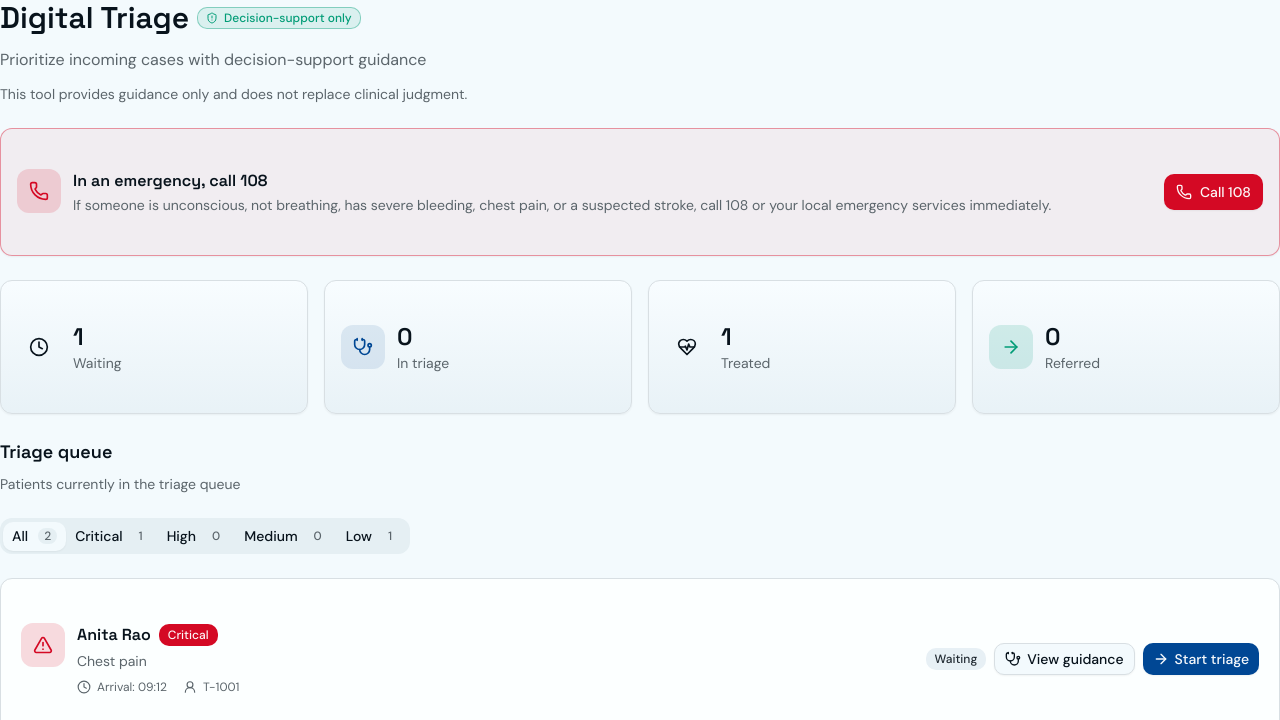
Scenario: TriagePage decision support › opens the clinical guidance dialog for a selected entry
The width and height of the screenshot is (1280, 720).
Click the button with test id "triage.view_guidance.1" at (1064,659), box [994,643,1135,675]
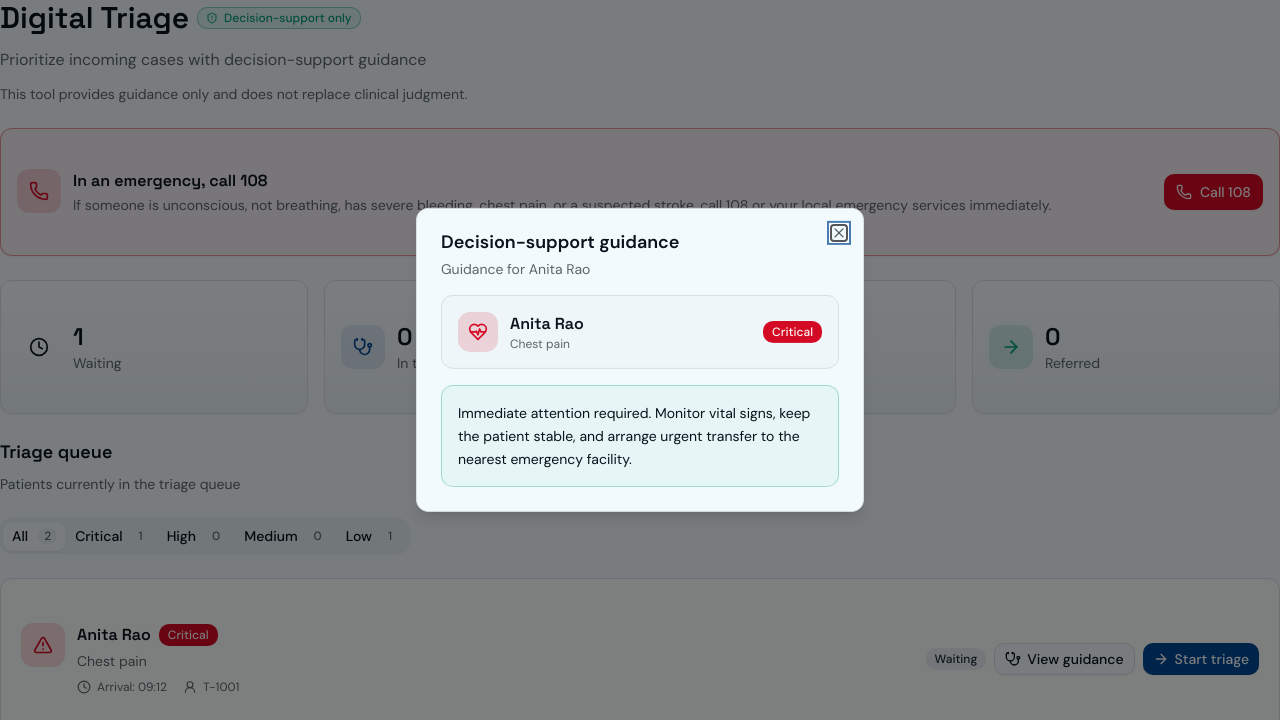
Check: the dialog with test id "triage.guidance_modal" is shown, box [416,208,864,512]
Check: the heading "Decision-support guidance" is shown, box [441,230,680,254]
